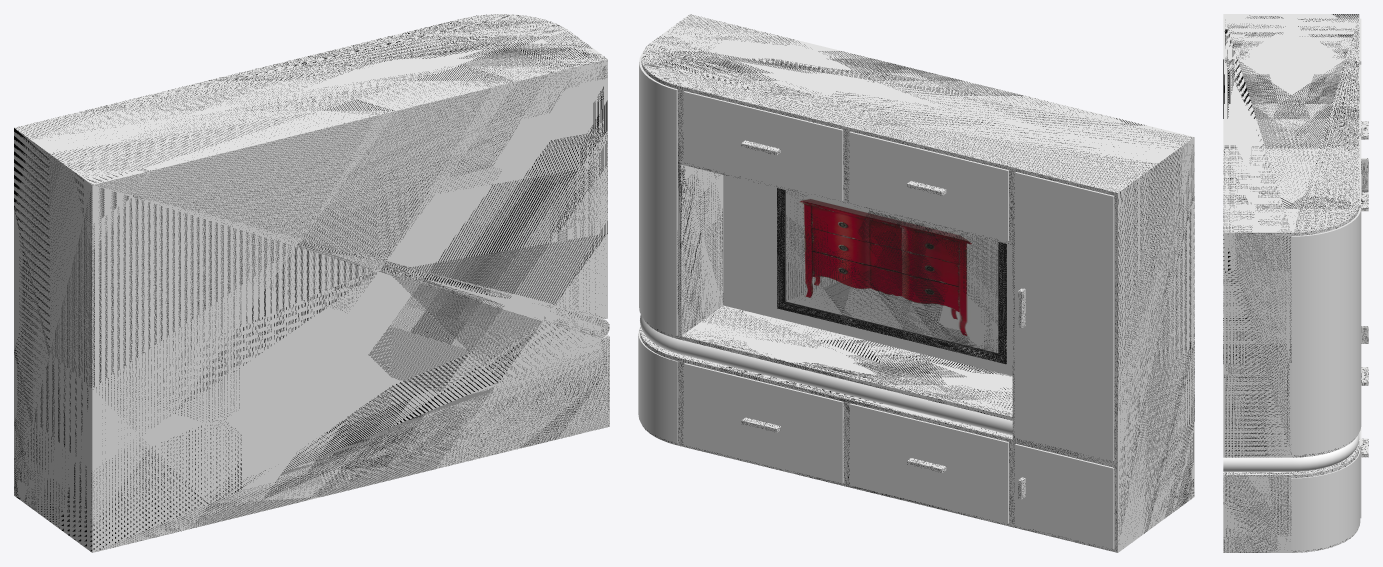
The picture shows the model from 3 angles, left to right: view 1: azimuth 30°, elevation 25°; view 2: azimuth 150°, elevation 25°; view 3: azimuth 270°, elevation 25°; orthographic projection. The views are drawn at different scales.
Parts seen in each view (by area): view 1: mesh2_mesh2-geometry; view 2: mesh2_mesh2-geometry, mesh1_mesh1-geometry; view 3: mesh2_mesh2-geometry.
Boxes of the visible parts, bbox=[...] form: mesh2_mesh2-geometry: bbox=[14, 14, 609, 552]; mesh2_mesh2-geometry: bbox=[638, 14, 1194, 552]; mesh1_mesh1-geometry: bbox=[777, 188, 1006, 364]; mesh2_mesh2-geometry: bbox=[1223, 14, 1368, 552].
Bounding box in the file's own units: 0.8064 × 0.5469 × 0.2249.
